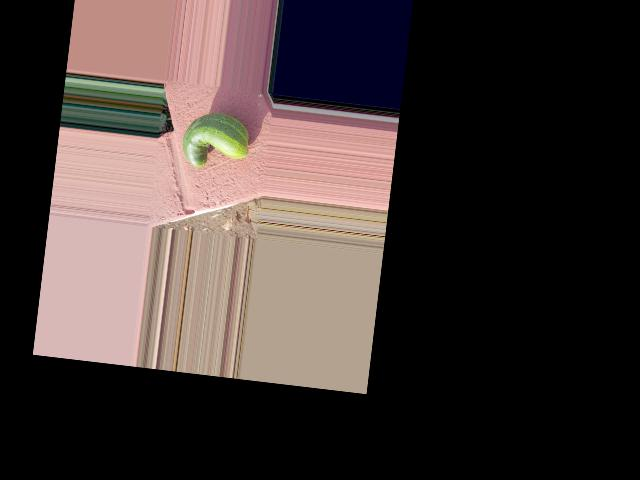cucumber: (180, 110, 252, 173)
